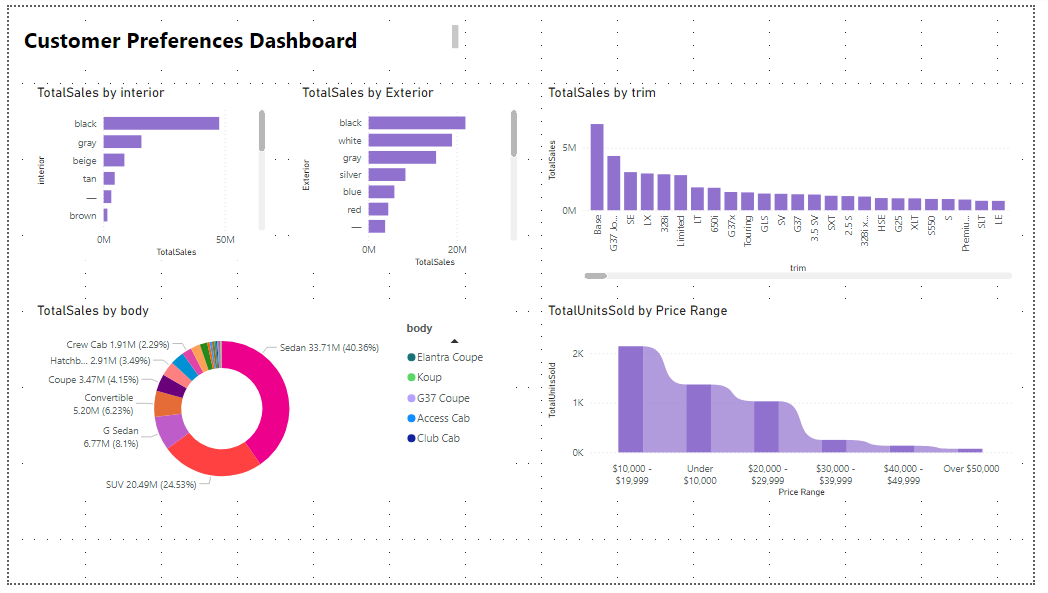

This screenshot's page, from the dashboard's own definition file:
{"tool":"powerbi","page":{"name":"Page 3","canvas":[1280,720],"ordinal":2},"visuals":[{"type":"textbox","box":[13.8,17.5,552.5,55],"z":0},{"type":"clusteredBarChart","fields":{"Category":["fact_sales.interior"],"Y":["fact_sales.TotalSales"]},"box":[30,96.2,295,221.2],"z":1},{"type":"clusteredBarChart","fields":{"Category":["fact_sales.color"],"Y":["fact_sales.TotalSales"]},"box":[361.2,96.2,278.8,233.8],"z":2},{"type":"donutChart","fields":{"Category":["fact_sales.body"],"Y":["fact_sales.TotalSales"]},"box":[30,368.8,590,247.5],"z":3},{"type":"clusteredColumnChart","fields":{"Category":["fact_sales.trim"],"Y":["fact_sales.TotalSales"]},"box":[668.8,96.2,590,248.8],"z":4},{"type":"ribbonChart","fields":{"Y":["fact_sales.TotalUnitsSold"],"Category":["fact_sales.Price Range"]},"box":[669,369,590,248],"z":5}]}

Visuals, with their boxes in screenshot pixels (x1, y1, x2, y2), scaled from the page's 1280x720 canvas onto the 1048x593 screenshot:
textbox: {"left": 11, "top": 14, "right": 464, "bottom": 60}
clusteredBarChart - fact_sales.interior x fact_sales.TotalSales: {"left": 25, "top": 79, "right": 266, "bottom": 261}
clusteredBarChart - fact_sales.color x fact_sales.TotalSales: {"left": 296, "top": 79, "right": 524, "bottom": 272}
donutChart - fact_sales.body x fact_sales.TotalSales: {"left": 25, "top": 304, "right": 508, "bottom": 508}
clusteredColumnChart - fact_sales.trim x fact_sales.TotalSales: {"left": 548, "top": 79, "right": 1031, "bottom": 284}
ribbonChart - fact_sales.TotalUnitsSold x fact_sales.Price Range: {"left": 548, "top": 304, "right": 1031, "bottom": 508}
